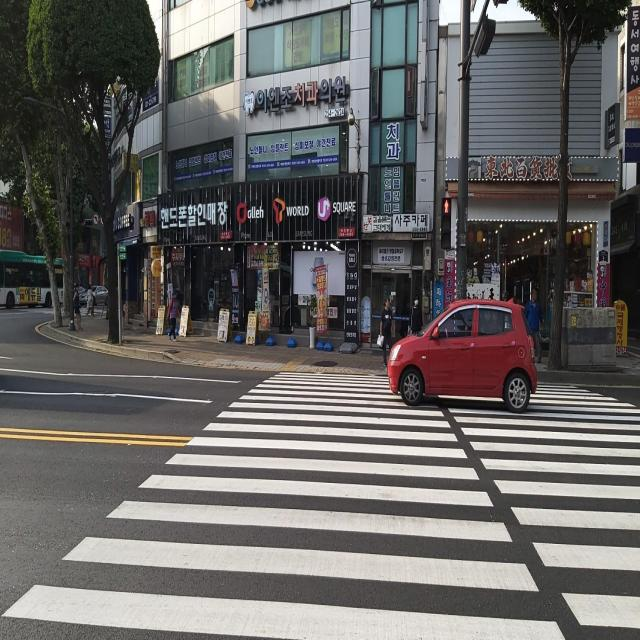빨간불: (440, 196, 452, 250)
횡단보도: (14, 354, 640, 640)
